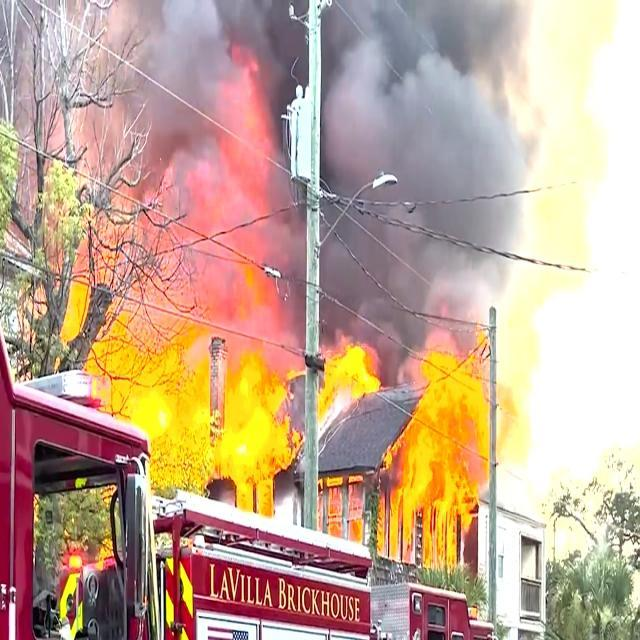Fire: (106, 304, 278, 510), (412, 354, 504, 562), (312, 352, 396, 407)
Smoke: (118, 0, 506, 292)
